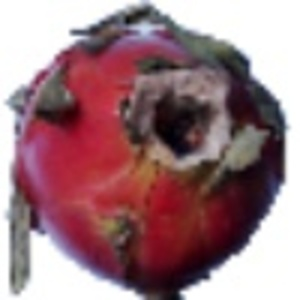pitaia: (5, 1, 291, 300)
